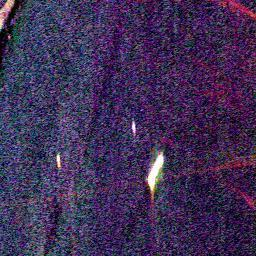Ship: (146, 149, 164, 191), (125, 118, 141, 136), (55, 153, 63, 171)
